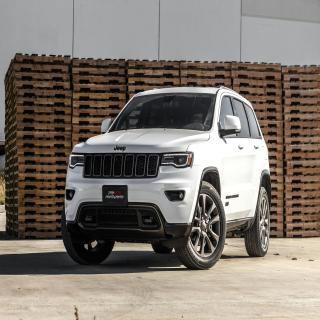Normal_vehicle: (61, 86, 272, 271)
